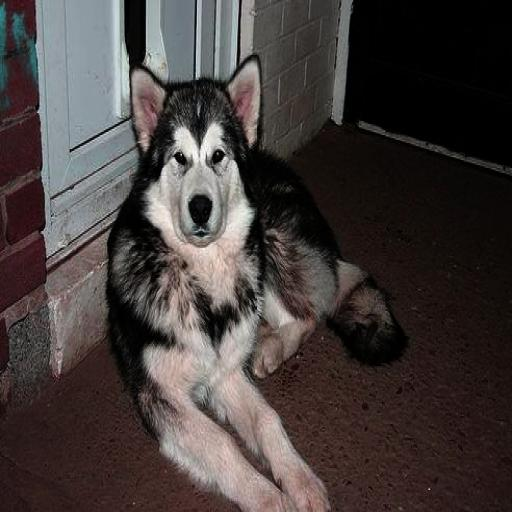dog_face: (124, 56, 268, 247)
